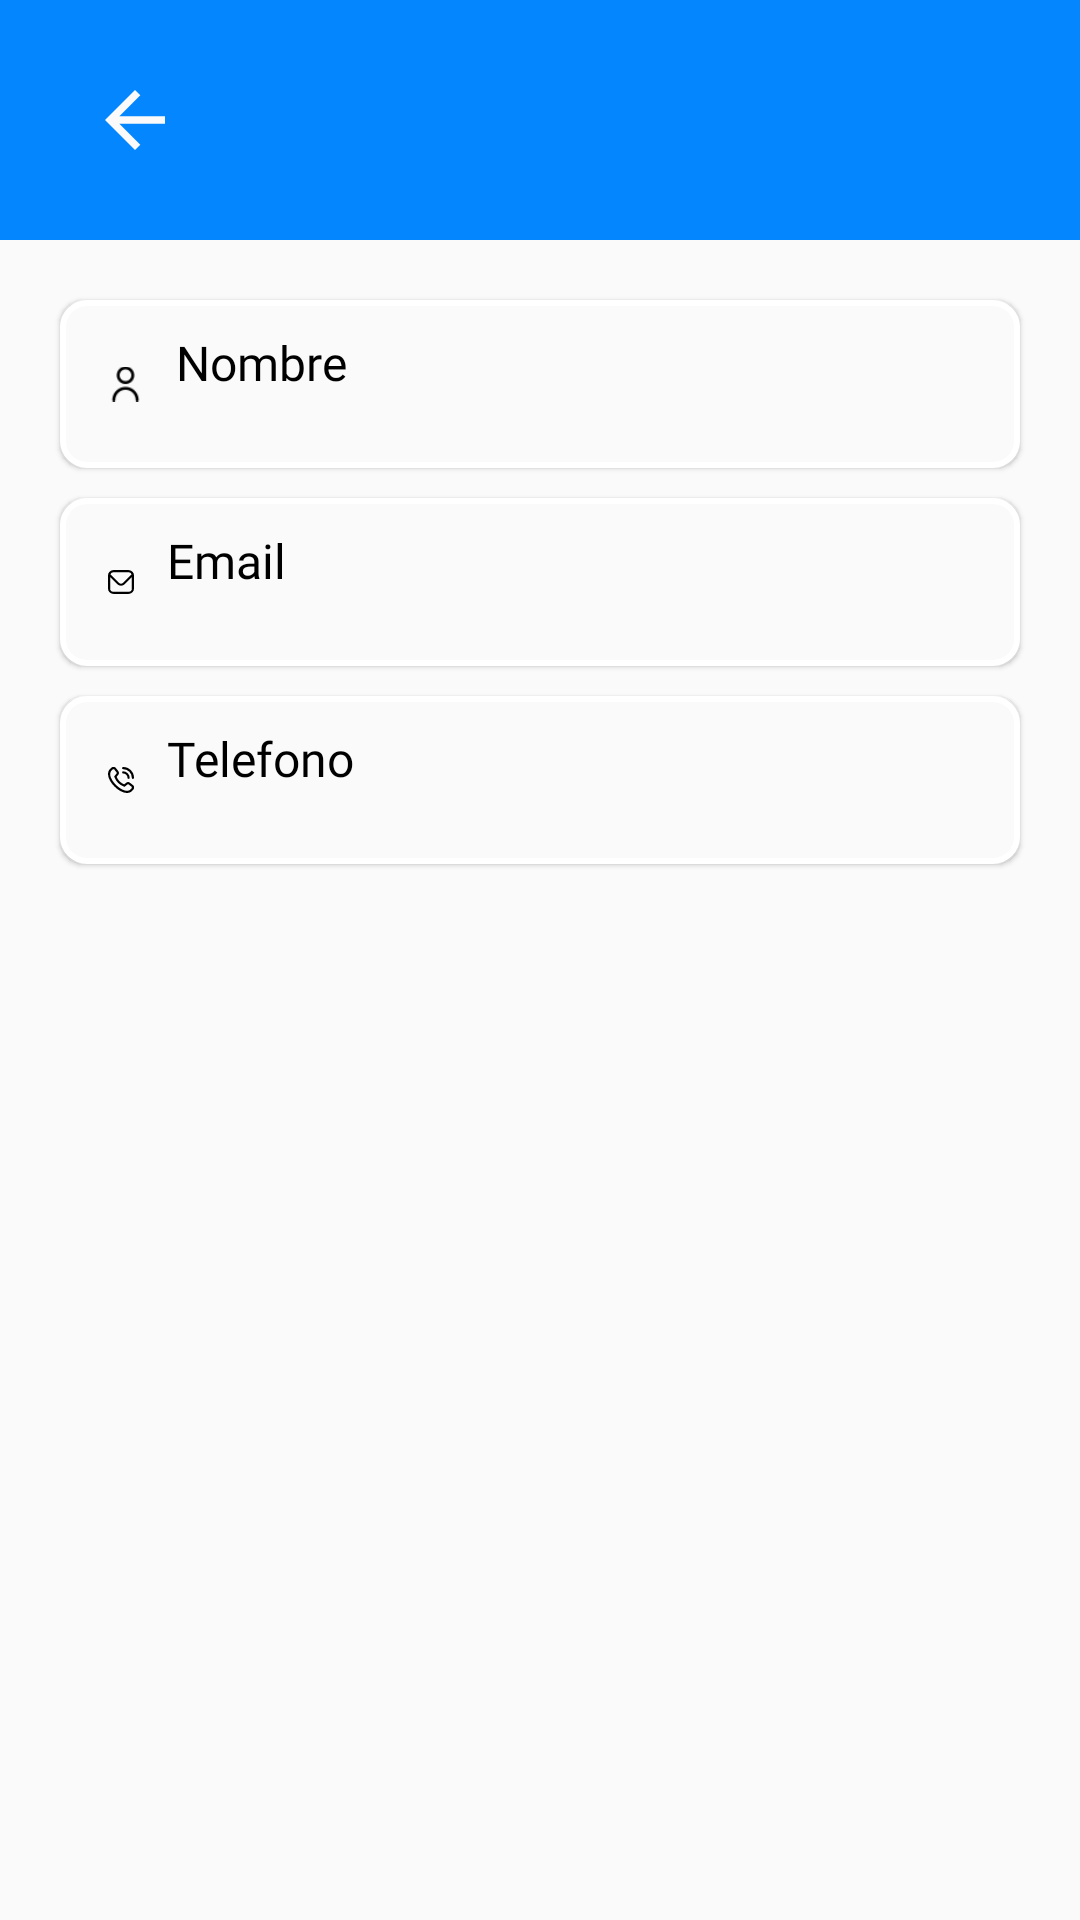

Icon bounding boxes for this 1080*1920 phone screenshot, format (x1, y1, x2, y2):
back: (105, 90, 165, 150)
user: (111, 367, 140, 402)
